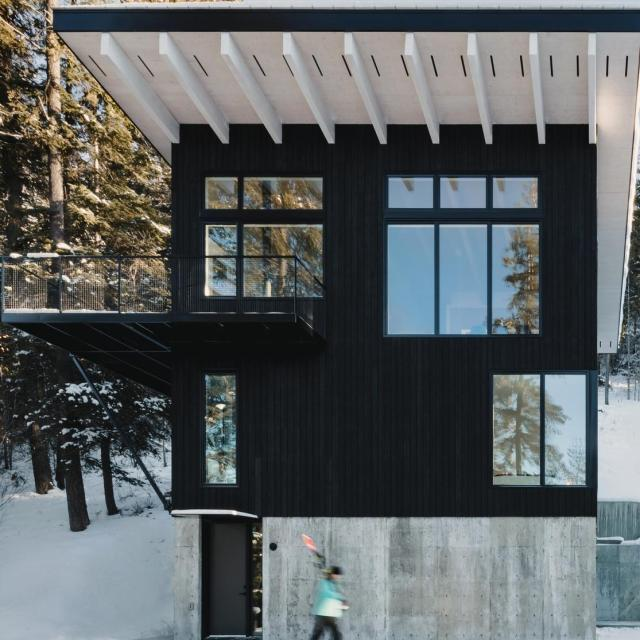Railing: (3, 257, 326, 338)
door: (206, 524, 251, 635)
wall: (1, 3, 639, 639)
windows: (386, 178, 542, 336), (203, 172, 326, 294), (491, 374, 588, 489), (205, 372, 240, 486)
